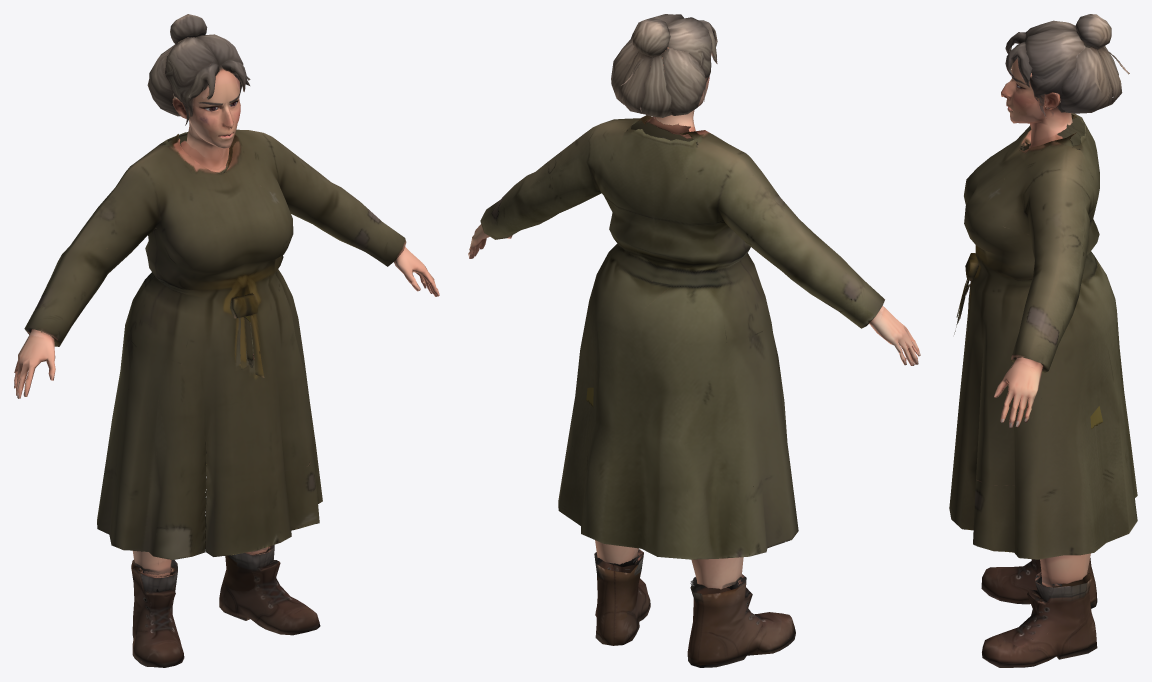
File: Meshy_AI__0914225417_texture.obj
3 views of the same model, side by side, from view 1: azimuth 30°, elevation 25°; view 2: azimuth 150°, elevation 25°; view 3: azimuth 270°, elevation 25° (orthographic). The views are drawn at different scales.
Parts seen in each view (by area): view 1: Meshy_AI__0914225417_texture; view 2: Meshy_AI__0914225417_texture; view 3: Meshy_AI__0914225417_texture.
Part boxes in pixels (x1,y1,x2,y2): Meshy_AI__0914225417_texture: [14, 14, 439, 667]; Meshy_AI__0914225417_texture: [468, 14, 920, 667]; Meshy_AI__0914225417_texture: [949, 14, 1137, 667].
Bounding box in the file's own units: 0.7363 × 1 × 0.2803.
1 material, 1 textured.
